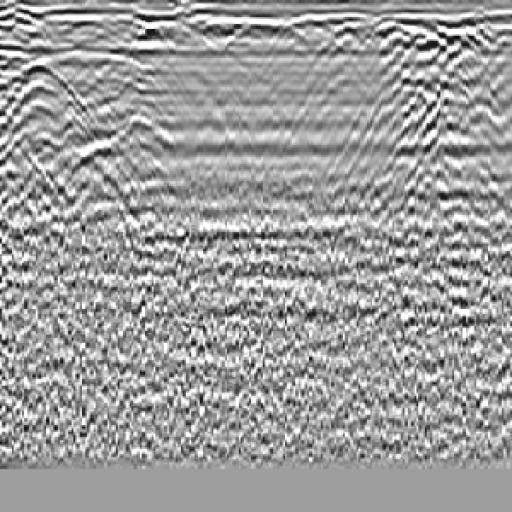non-metallic: (1, 38, 111, 252)
